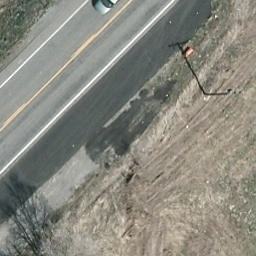car: (94, 0, 130, 18)
